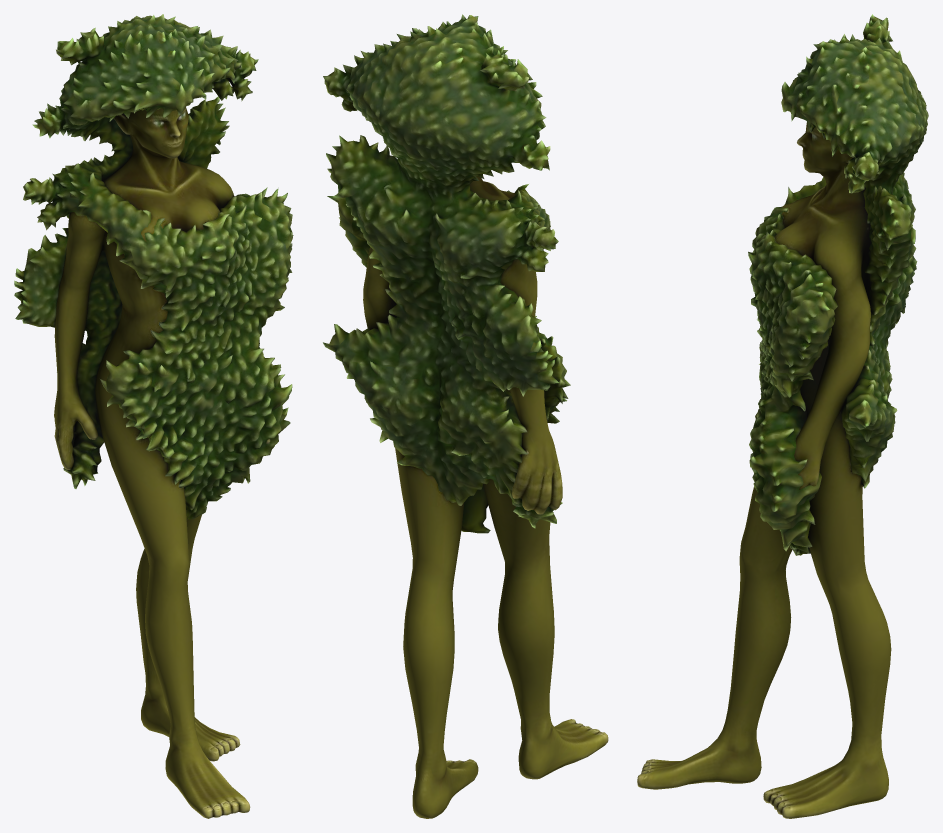
The model's file is MZ4250 - Dryad.glb.
3 views of the same model, side by side, from view 1: azimuth 30°, elevation 25°; view 2: azimuth 150°, elevation 25°; view 3: azimuth 270°, elevation 25° (orthographic). The views are drawn at different scales.
Visible parts, largest first — view 1: leafs_low.001, body_low.001; view 2: leafs_low.001, body_low.001; view 3: body_low.001, leafs_low.001.
Boxes of the visible parts, x1=… form: leafs_low.001: x1=14, y1=14, x2=293, y2=520; body_low.001: x1=54, y1=107, x2=270, y2=818; leafs_low.001: x1=323, y1=14, x2=570, y2=533; body_low.001: x1=363, y1=176, x2=608, y2=818; body_low.001: x1=637, y1=122, x2=891, y2=818; leafs_low.001: x1=748, y1=14, x2=928, y2=555.
Size of the model in its own units: 2.28 by 6.45 by 2.27.
1 material, 1 textured.
